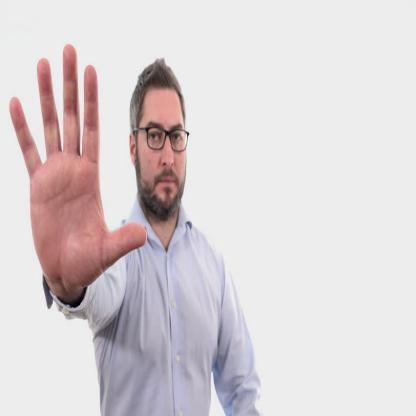Stop: (7, 60, 144, 280)
